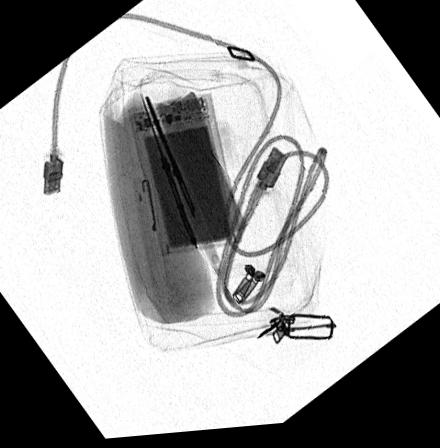Knife: (134, 99, 203, 259)
Powerbank: (126, 99, 242, 262)
Scissors: (141, 94, 203, 224)
